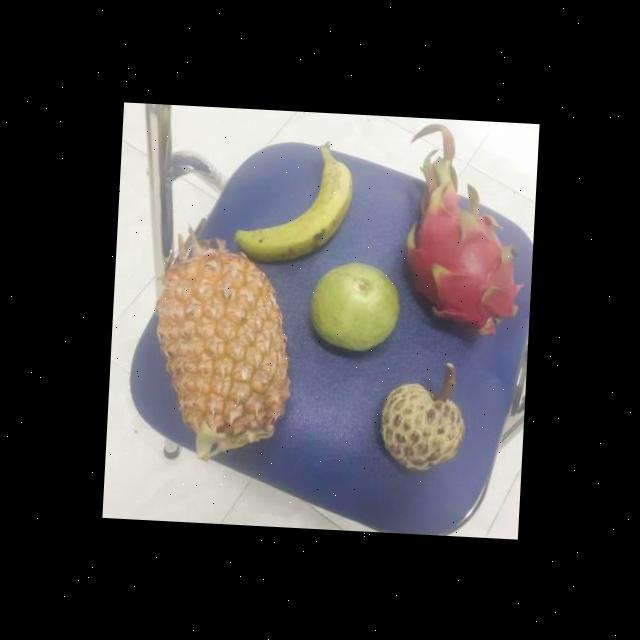Sakya fruit: (370, 379, 466, 474)
banana: (226, 138, 352, 263)
guava: (302, 260, 400, 352)
pineapple: (144, 243, 295, 455)
pitaya: (394, 194, 518, 336)
